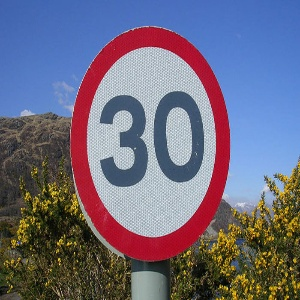30 speed: (69, 26, 230, 262)
